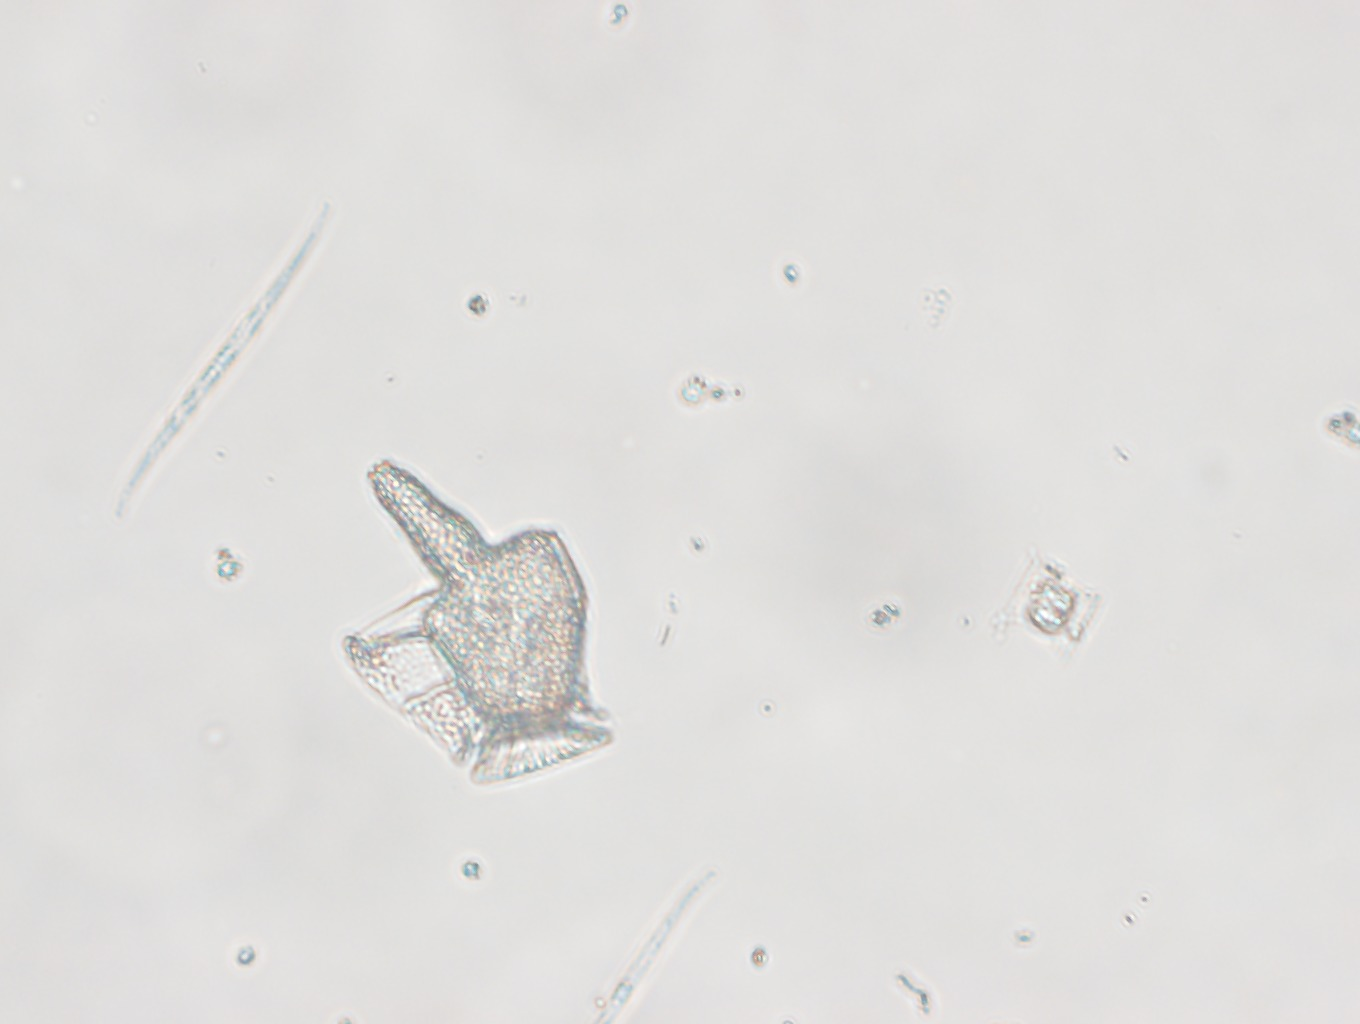dinophysis caudata: (340, 459, 617, 787)
pleurosigma pelagicum: (115, 200, 332, 510)
